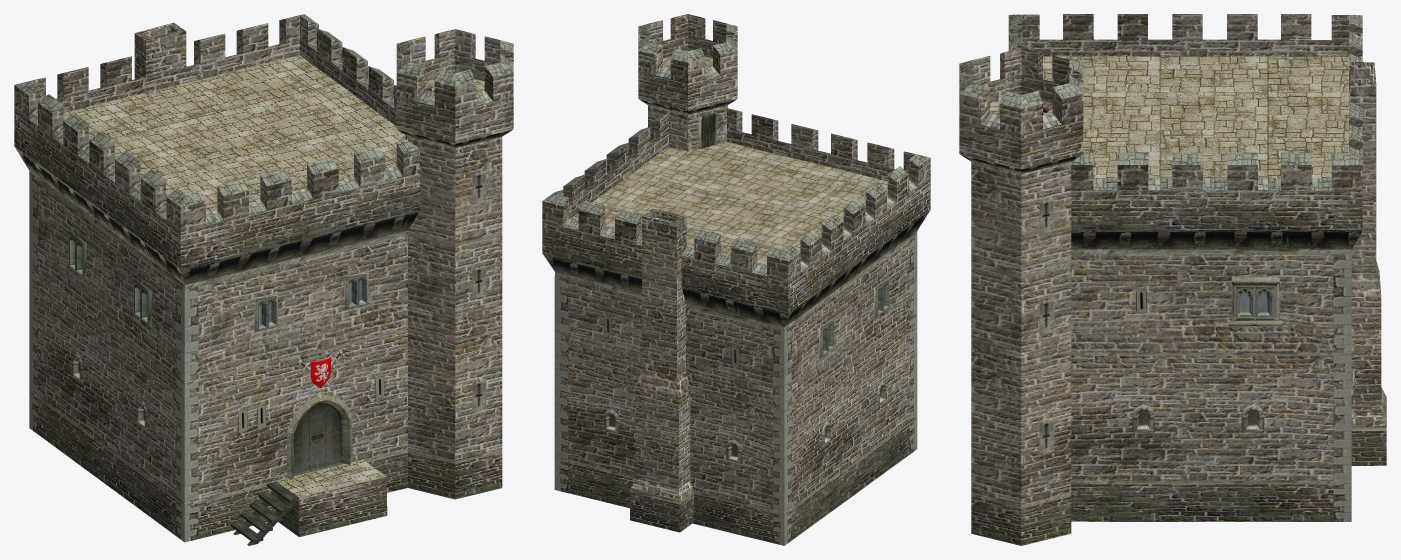
The model's file is building_keep_small.glb.
The picture shows the model from 3 angles, left to right: view 1: azimuth 30°, elevation 25°; view 2: azimuth 150°, elevation 25°; view 3: azimuth 270°, elevation 25°; orthographic projection. The views are drawn at different scales.
Parts seen in each view (by area): view 1: building_keep_small; view 2: building_keep_small; view 3: building_keep_small.
Part boxes in pixels (x1,y1,x2,y2): building_keep_small: [14, 14, 513, 545]; building_keep_small: [542, 14, 930, 545]; building_keep_small: [959, 14, 1386, 545].
Bounding box in the file's own units: 15.4 × 18.46 × 15.88.
6 materials, 6 textured.
